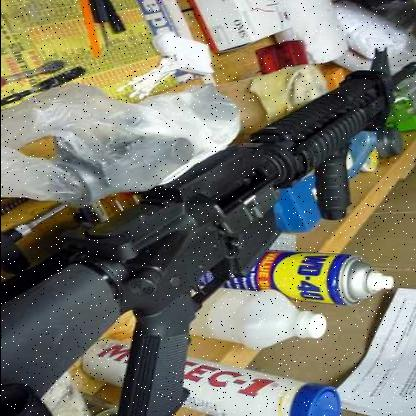rifle: (1, 45, 416, 415)
